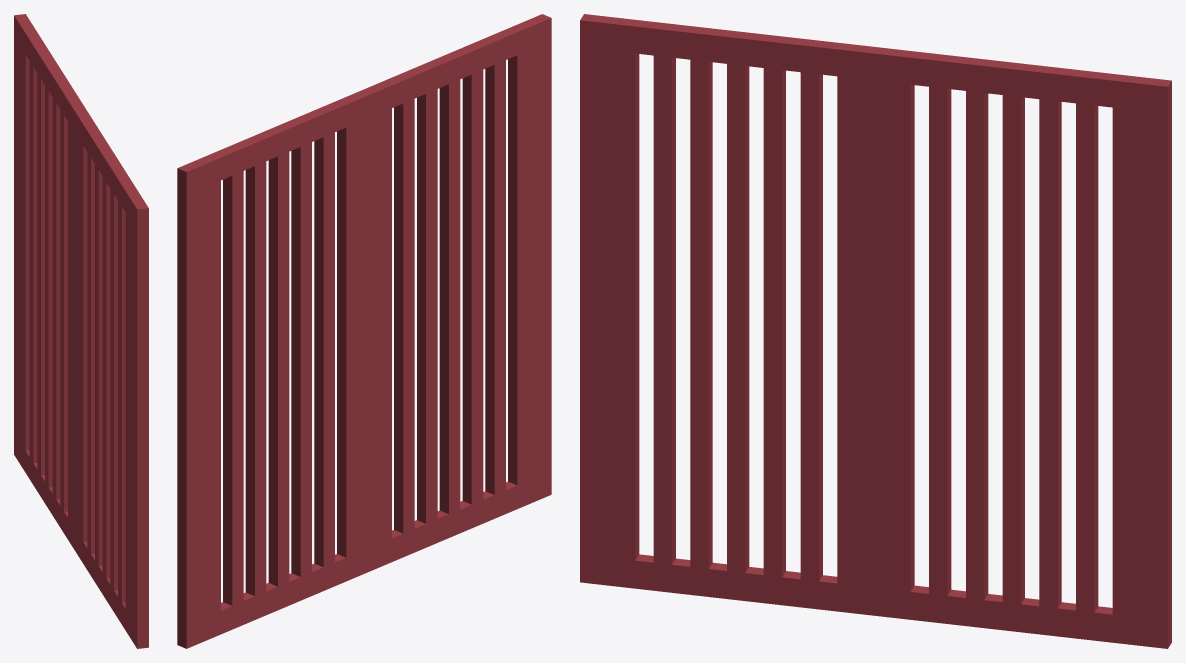
The model's file is gate.glb.
The picture shows the model from 3 angles, left to right: view 1: azimuth 30°, elevation 25°; view 2: azimuth 150°, elevation 25°; view 3: azimuth 270°, elevation 25°; orthographic projection. The views are drawn at different scales.
Visible parts, largest first — view 1: gate; view 2: gate; view 3: gate.
Part boxes in pixels (x1,y1,x2,y2): gate: [14, 14, 148, 648]; gate: [177, 14, 551, 648]; gate: [580, 14, 1171, 648].
Size of the model in its own units: 1.12 by 4.04 by 3.85.
Materials: 1 (1 with a texture image).
